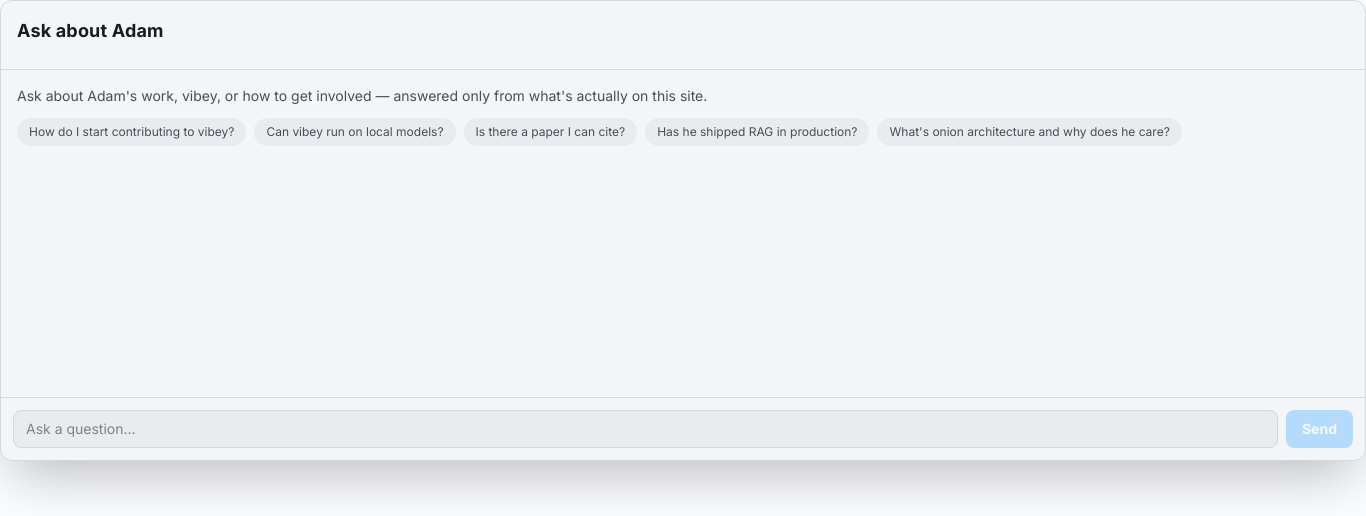
AskAdam › variant="page" › sends a question in page mode
The image size is (1366, 516).
Type "Test question" into the field with placeholder "Ask a question…" at point(645, 429), box [13,410,1278,448]
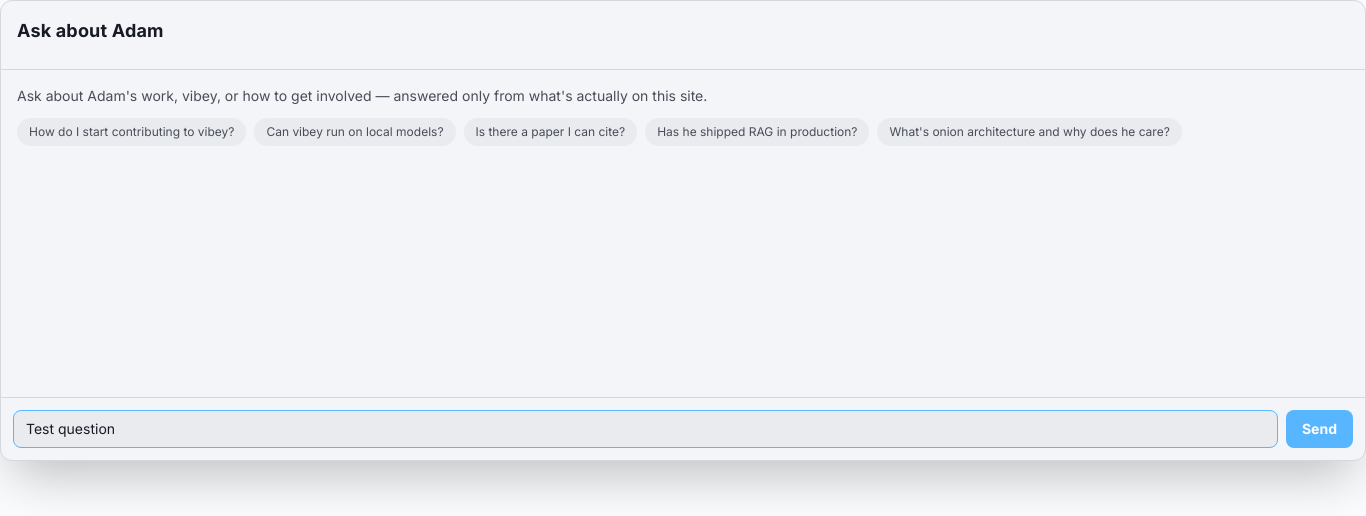
Click the button "Send" at point(1319, 429), box [1286,410,1353,448]
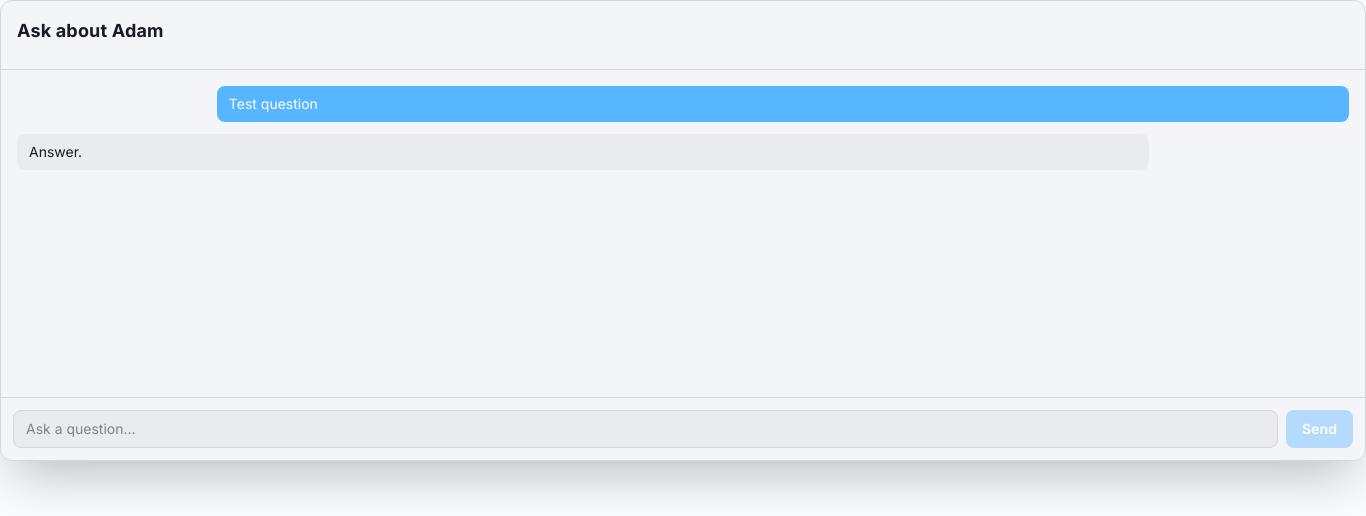
Expected: the text "Answer." is shown, [17,134,1149,170]
